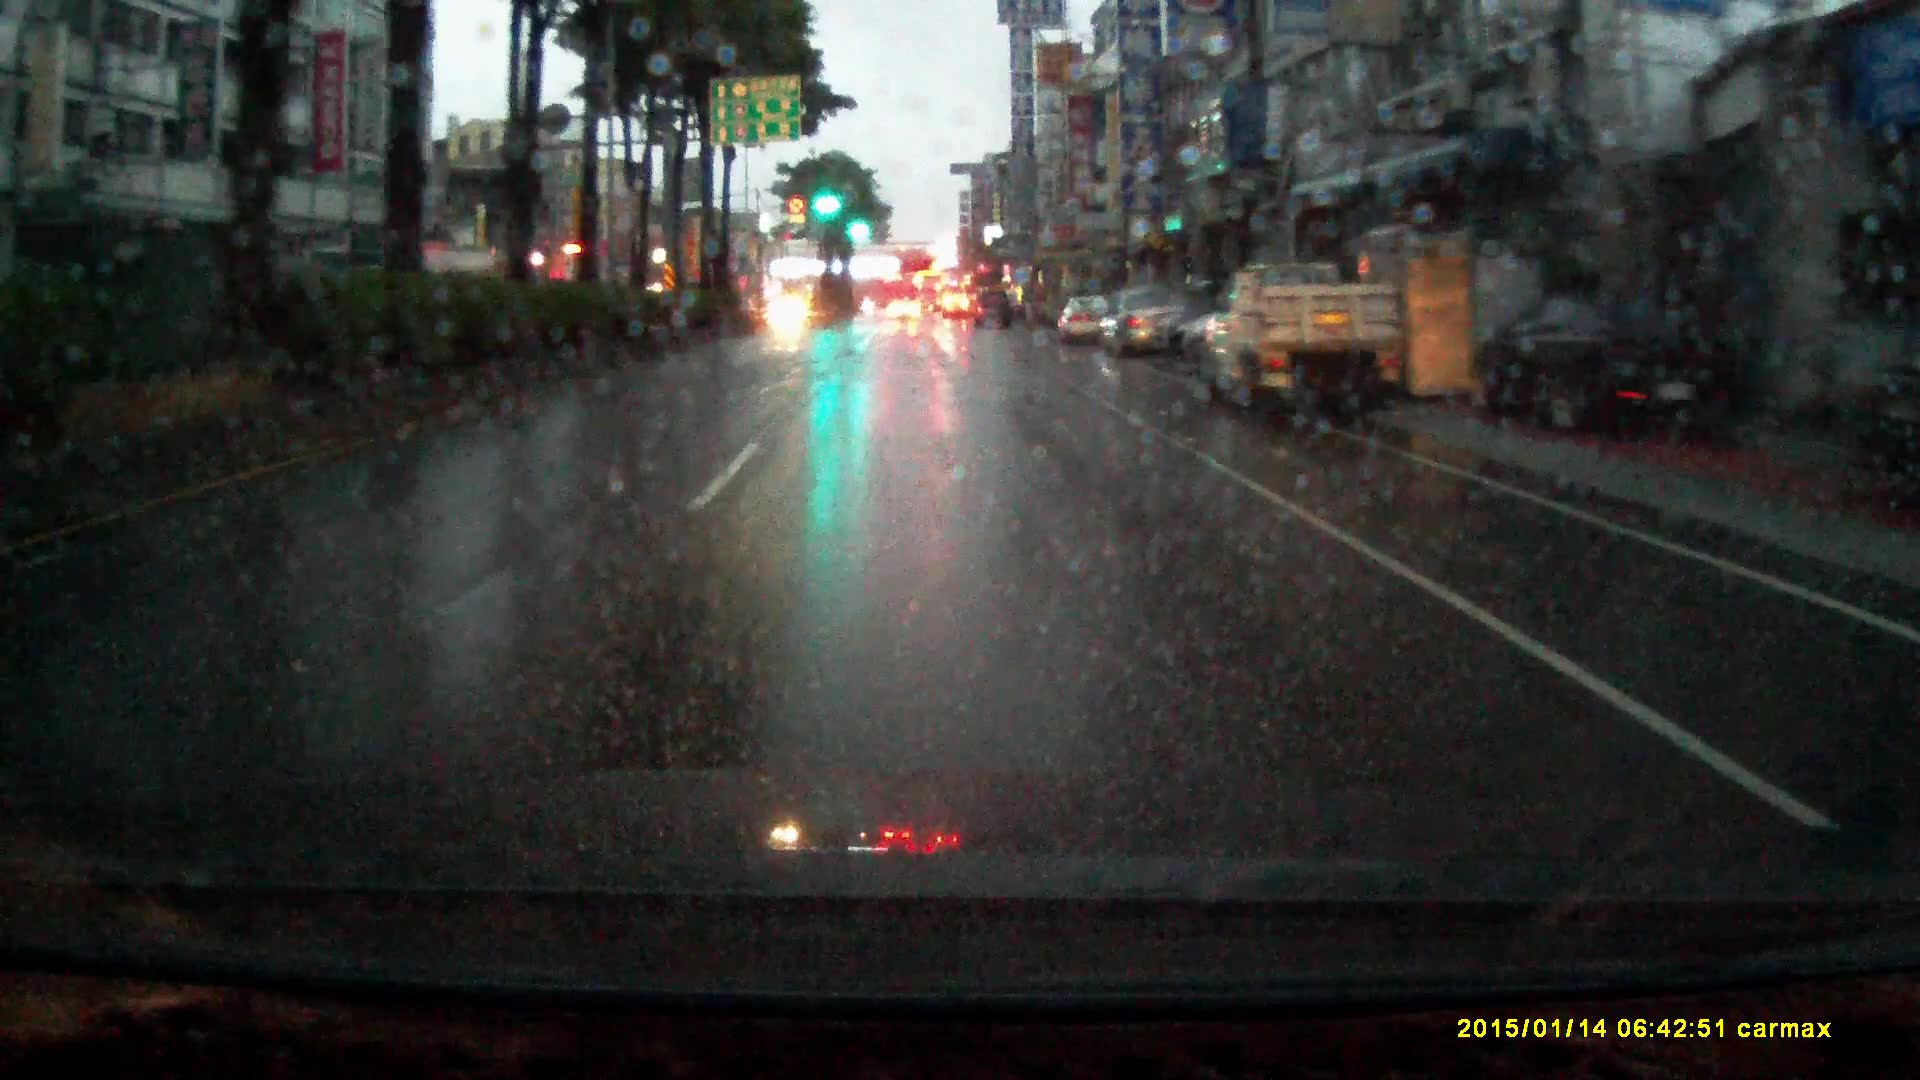vehicle: (1468, 298, 1753, 450), (1204, 266, 1411, 431), (1100, 290, 1191, 364), (1058, 298, 1110, 351), (973, 293, 1013, 336), (767, 301, 814, 338), (943, 297, 973, 326), (916, 281, 940, 316), (887, 305, 922, 324)
